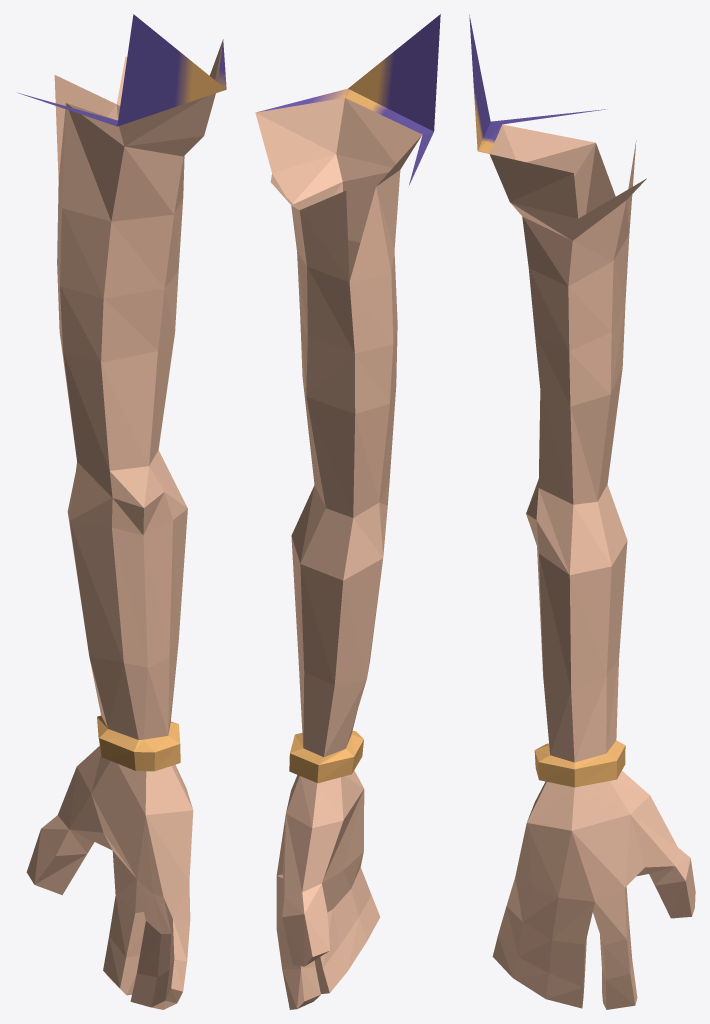
The model's file is ArmR.obj.
3 renders of one model, left to right at view 1: azimuth 30°, elevation 25°; view 2: azimuth 150°, elevation 25°; view 3: azimuth 270°, elevation 25°, orthographic. The views are drawn at different scales.
Bounding box in the file's own units: 0.1784 × 0.9514 × 0.2028.
1 material, 1 textured.
